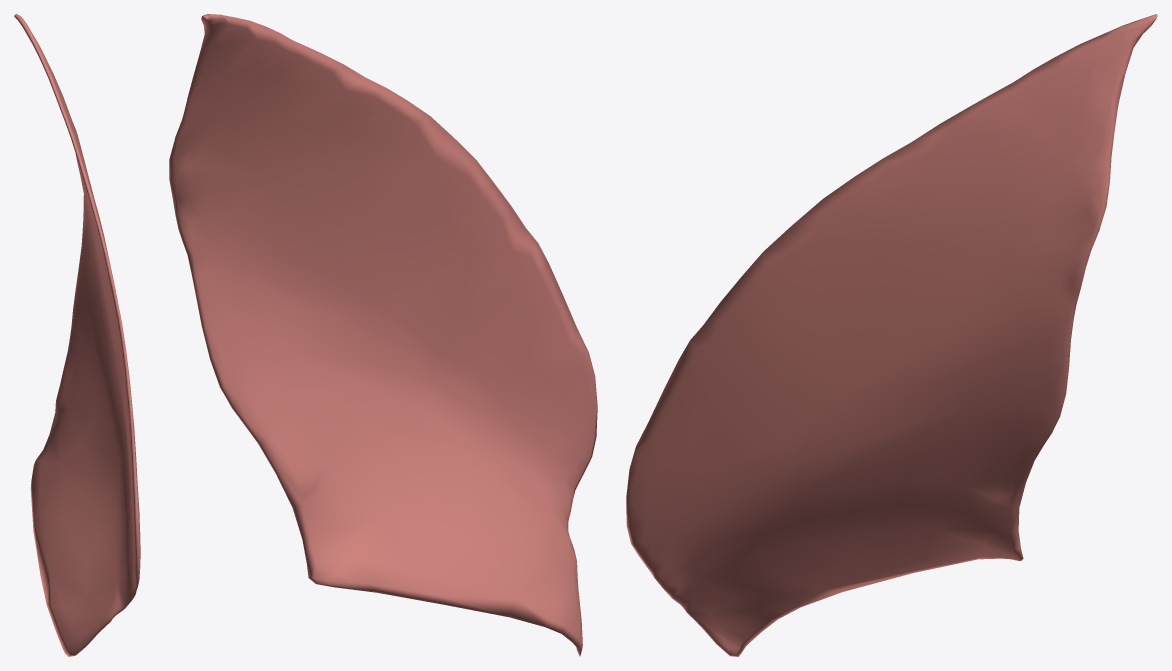
3 renders of one model, left to right at view 1: azimuth 30°, elevation 25°; view 2: azimuth 150°, elevation 25°; view 3: azimuth 270°, elevation 25°, orthographic. The views are drawn at different scales.
Visible parts, largest first — view 1: ZA_0508b41667af42a2; view 2: ZA_0508b41667af42a2; view 3: ZA_0508b41667af42a2.
Part boxes in pixels (x1,y1,x2,y2): ZA_0508b41667af42a2: (14, 14, 140, 656); ZA_0508b41667af42a2: (169, 14, 597, 656); ZA_0508b41667af42a2: (626, 14, 1157, 656).
Bounding box in the file's own units: 0.0147 × 0.0489 × 0.0333.
